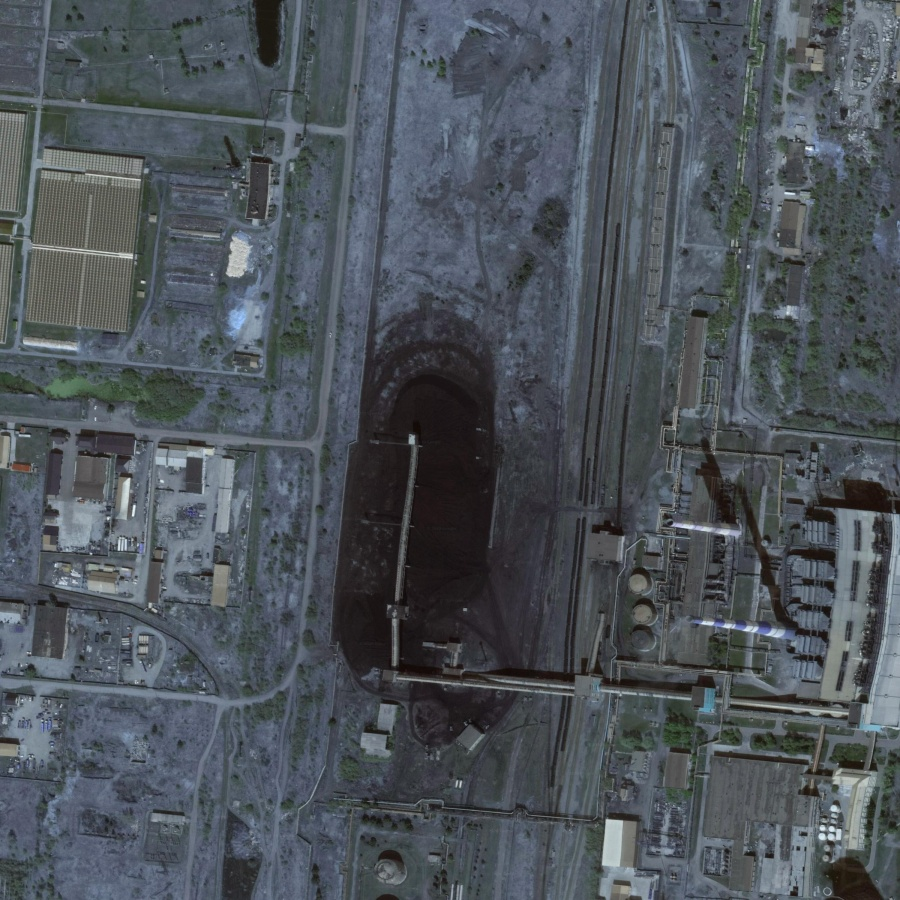PowerPlant: (323, 339, 641, 748), (647, 426, 836, 688)
